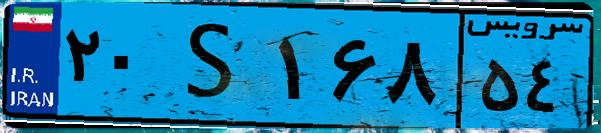0: (110, 28, 158, 98)
1: (270, 28, 330, 110)
2: (57, 26, 110, 100)
4: (525, 38, 570, 115)
5: (475, 38, 525, 113)
6: (330, 28, 385, 110)
8: (385, 28, 445, 110)
S: (158, 12, 270, 120)
